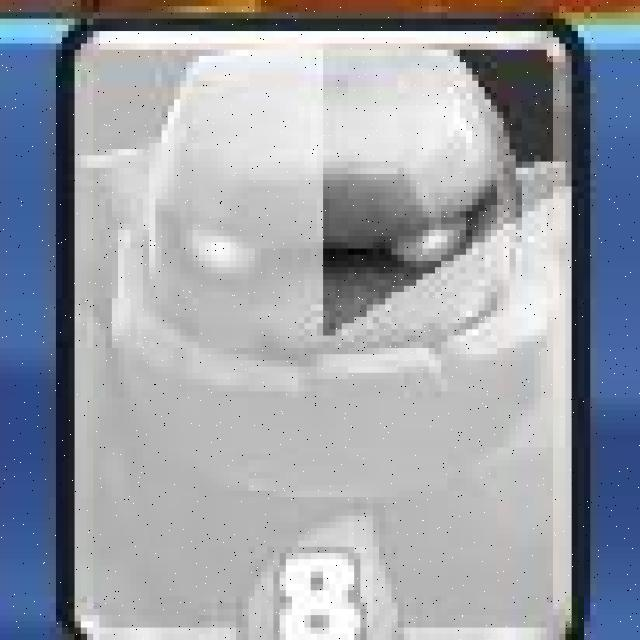Golem: (60, 22, 585, 640)
